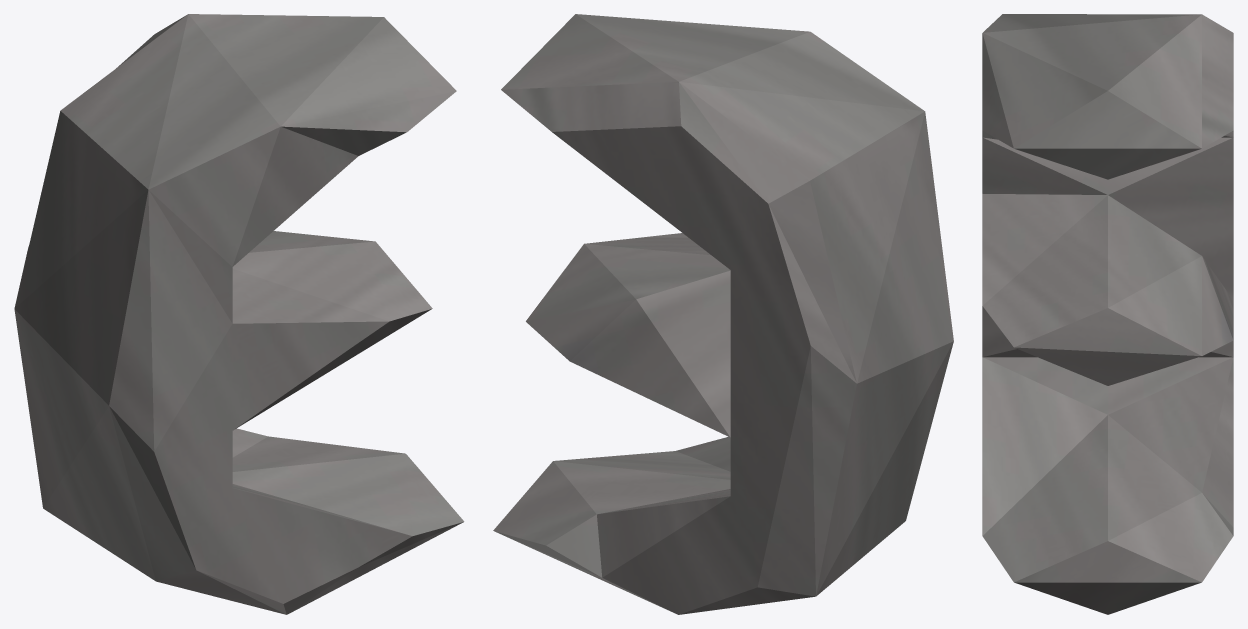
3 views of the same model, side by side, from view 1: azimuth 30°, elevation 25°; view 2: azimuth 150°, elevation 25°; view 3: azimuth 270°, elevation 25° (orthographic). The views are drawn at different scales.
Visible parts, largest first — view 1: E; view 2: E; view 3: E.
Boxes of the visible parts, x1,y1,x2,y2 form: E: [14, 14, 464, 614]; E: [493, 14, 953, 614]; E: [982, 14, 1233, 614].
Size of the model in its own units: 48.78 by 69.84 by 30.
1 material, 1 textured.
